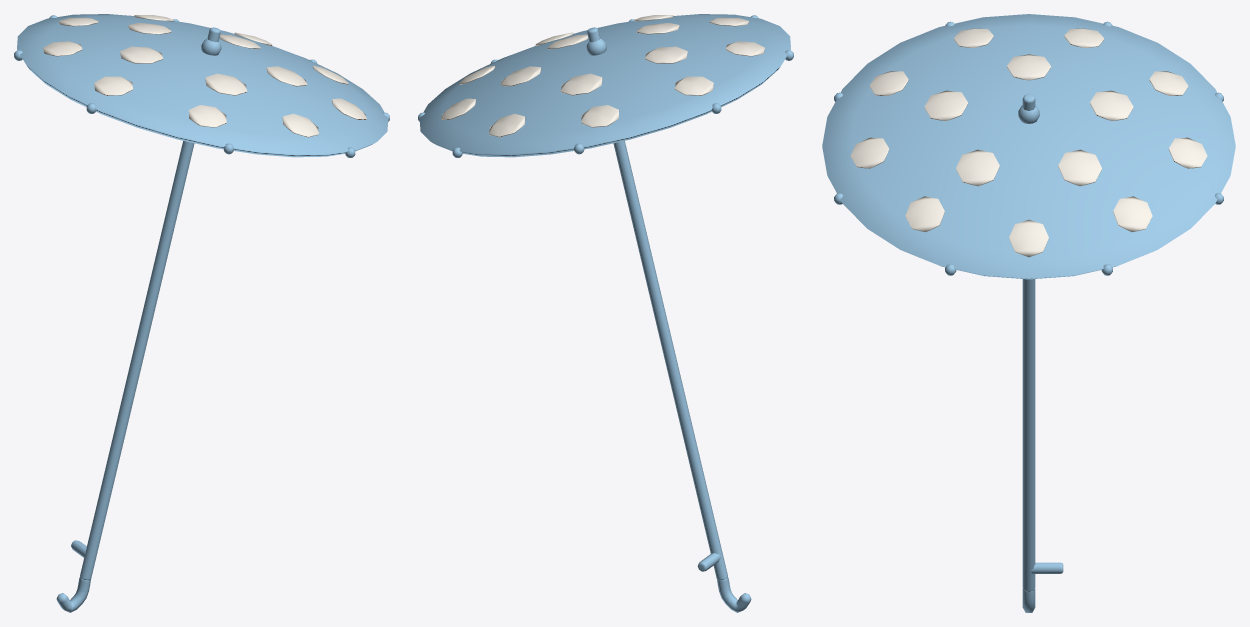
The model's file is blue_dot_parasol.glb.
3 views of the same model, side by side, from view 1: azimuth 30°, elevation 25°; view 2: azimuth 150°, elevation 25°; view 3: azimuth 270°, elevation 25° (orthographic). The views are drawn at different scales.
Parts seen in each view (by area): view 1: blue_dot_parasol_ArmR; view 2: blue_dot_parasol_ArmR; view 3: blue_dot_parasol_ArmR.
Part boxes in pixels (x1,y1,x2,y2): blue_dot_parasol_ArmR: [14, 14, 389, 612]; blue_dot_parasol_ArmR: [418, 14, 793, 612]; blue_dot_parasol_ArmR: [822, 14, 1235, 612].
Bounding box in the file's own units: 0.8703 × 1.42 × 0.9.
